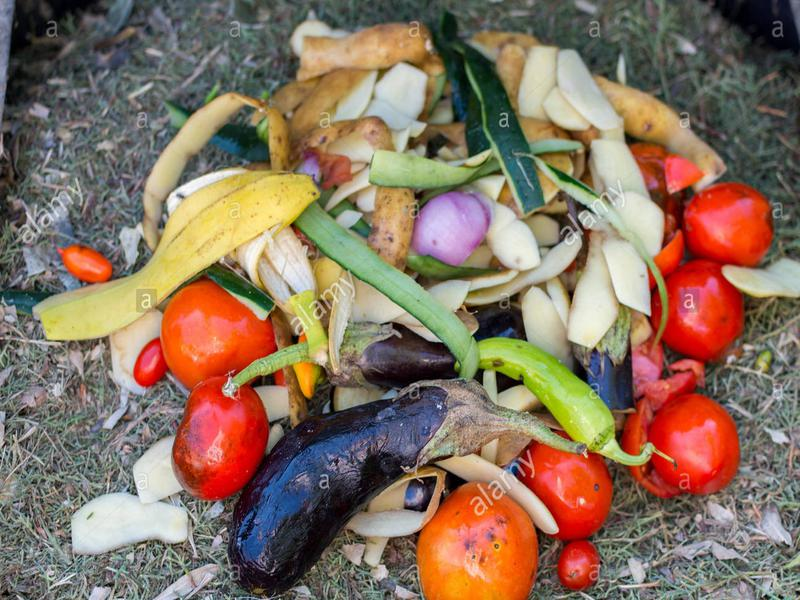vegetation: (42, 5, 790, 593)
